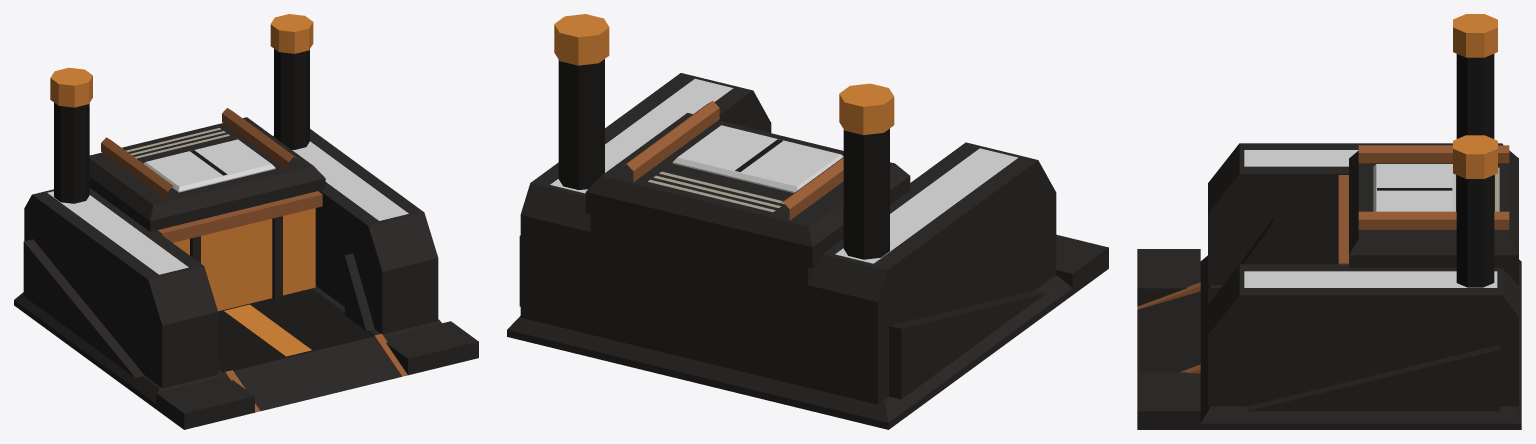
File: str_t3_fac_land.59083f27.raw.glb
3 views of the same model, side by side, from view 1: azimuth 30°, elevation 25°; view 2: azimuth 150°, elevation 25°; view 3: azimuth 270°, elevation 25° (orthographic). The views are drawn at different scales.
Visible parts, largest first — view 1: lod0; view 2: lod0; view 3: lod0.
Part boxes in pixels (<box>): lod0: <box>14,14,478,429</box>; lod0: <box>507,14,1108,429</box>; lod0: <box>1137,14,1521,429</box>.
Size of what is drawn, in the model's own units: 4.94 by 3.75 by 4.94.
